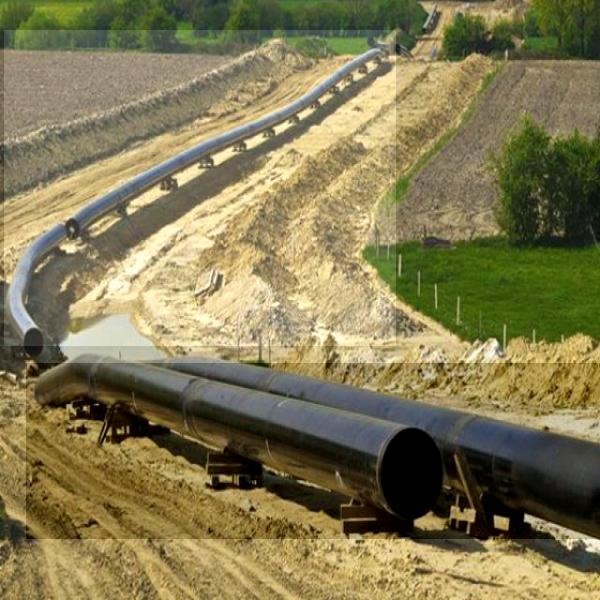no leak: (4, 30, 396, 346), (26, 363, 600, 539)
